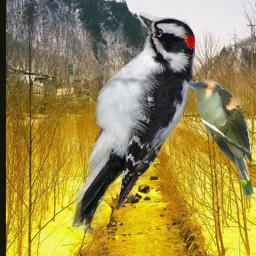Cuckoo: (181, 78, 256, 202)
Woodpecker: (69, 12, 195, 234)
